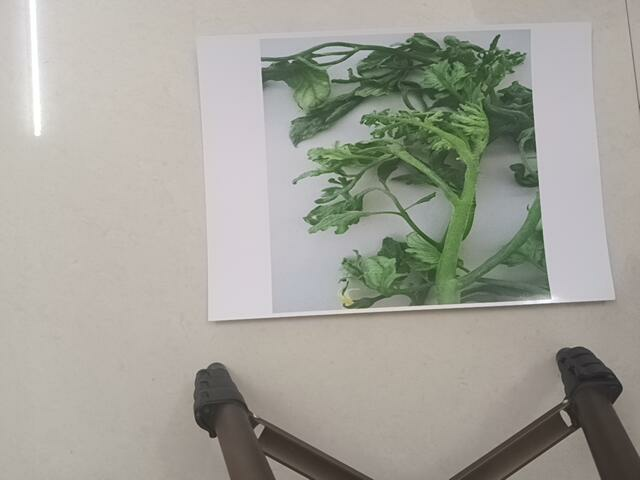Tomamto_Mosaic_virus: (258, 38, 558, 310)
